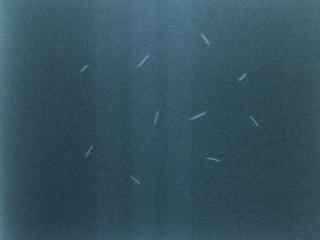scratch: (136, 50, 153, 69), (82, 143, 94, 161), (187, 110, 206, 121), (127, 173, 143, 186), (199, 31, 211, 48), (153, 109, 164, 126), (201, 154, 221, 163), (78, 63, 90, 76), (248, 114, 259, 128), (237, 71, 247, 82)
